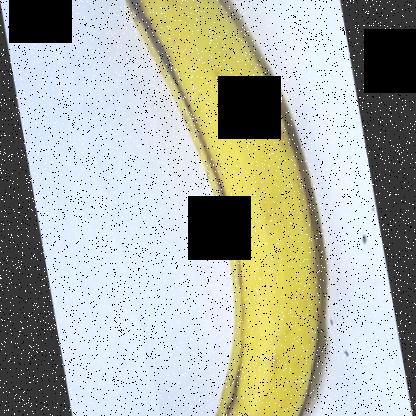ripe: (107, 1, 343, 415)
